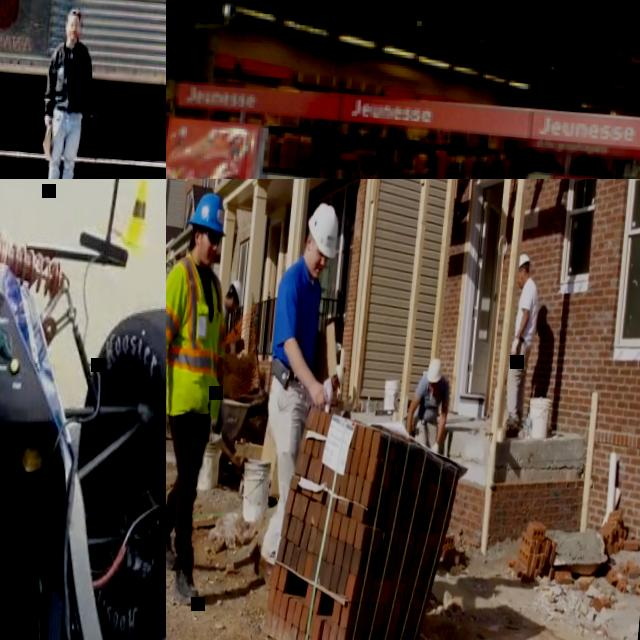Hardhat: (306, 204, 341, 260), (188, 191, 228, 235), (426, 355, 443, 382), (230, 276, 242, 302), (334, 364, 347, 386), (518, 251, 530, 268)
NO-Hardhat: (65, 6, 81, 19)
NO-Mask: (193, 245, 216, 270), (306, 258, 322, 277), (68, 30, 78, 41), (516, 275, 524, 287), (428, 386, 436, 397)
NO-Safety Vest: (270, 266, 323, 383), (50, 43, 90, 114), (416, 377, 446, 429), (516, 280, 540, 343), (322, 377, 336, 411), (219, 309, 230, 336)
Person: (250, 200, 344, 588), (166, 185, 239, 605), (36, 4, 98, 179), (500, 253, 540, 436), (404, 353, 454, 457), (219, 276, 242, 352), (322, 363, 346, 410)
Safety Cone: (119, 179, 159, 243)
Safety Vest: (166, 249, 228, 419)
vehicle: (0, 179, 166, 640)
